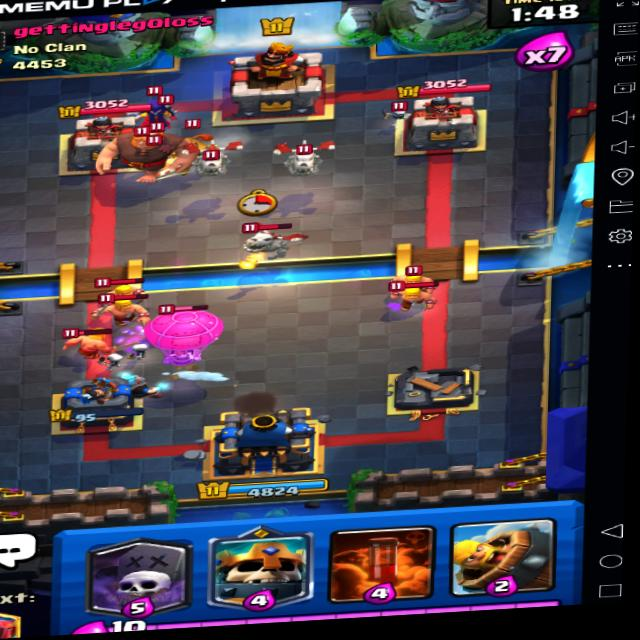balloon: (150, 301, 227, 369)
barbarian: (94, 295, 154, 326), (388, 276, 439, 312), (68, 325, 119, 357), (96, 279, 147, 308), (391, 263, 444, 290)
giant: (106, 123, 204, 184)
prince: (158, 125, 215, 187)
skeleton: (381, 101, 408, 124), (158, 98, 177, 116)
skeleton-dragon: (186, 140, 252, 182), (270, 135, 334, 178), (229, 222, 297, 260)
witch: (123, 89, 182, 136)
